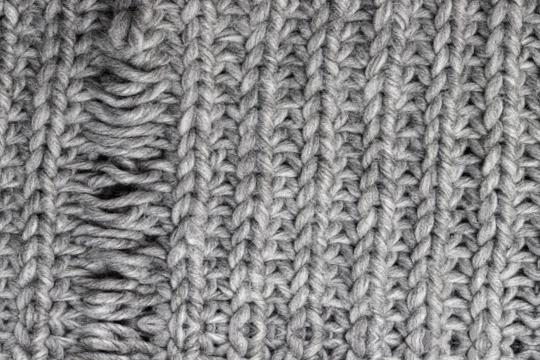slub: (70, 2, 183, 360)
